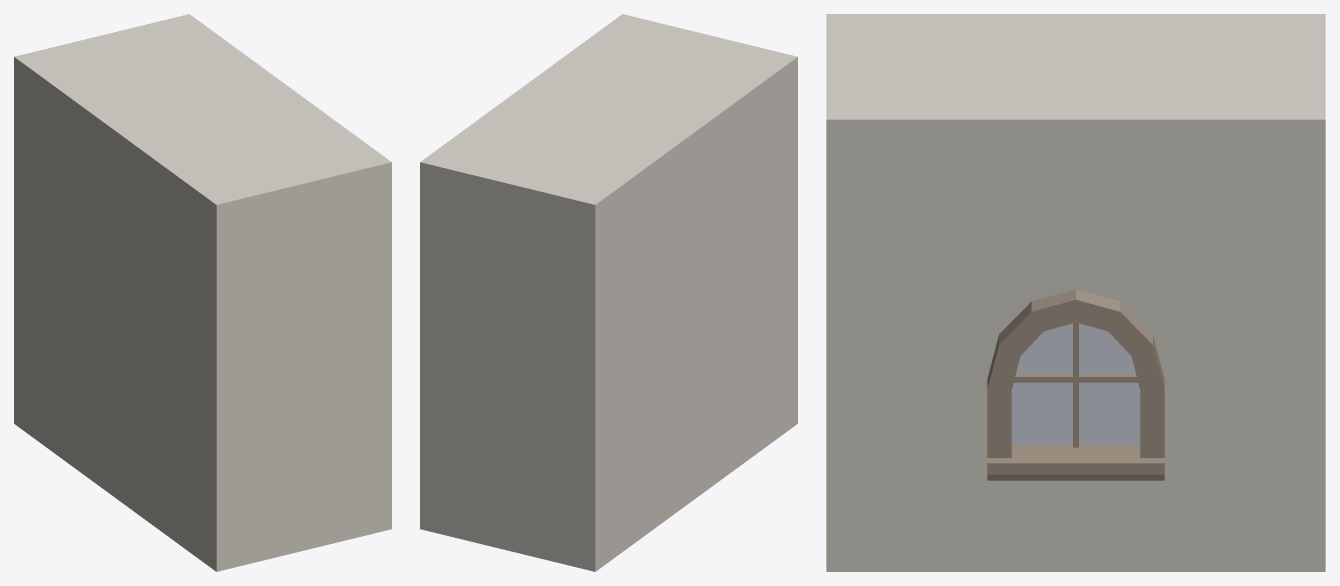
The model's file is Stucco_Window_Rounded_Wide_Tall.glb.
3 views of the same model, side by side, from view 1: azimuth 30°, elevation 25°; view 2: azimuth 150°, elevation 25°; view 3: azimuth 270°, elevation 25° (orthographic). The views are drawn at different scales.
Parts seen in each view (by area): view 1: object2; view 2: object2; view 3: object2, object3, object1.
Part boxes in pixels (<box>): object2: <box>14,14,391,571</box>; object2: <box>420,14,797,571</box>; object2: <box>826,14,1325,571</box>; object3: <box>987,289,1164,480</box>; object1: <box>1014,322,1137,447</box>.
Size of the model in its own units: 1.15 by 2 by 2.
